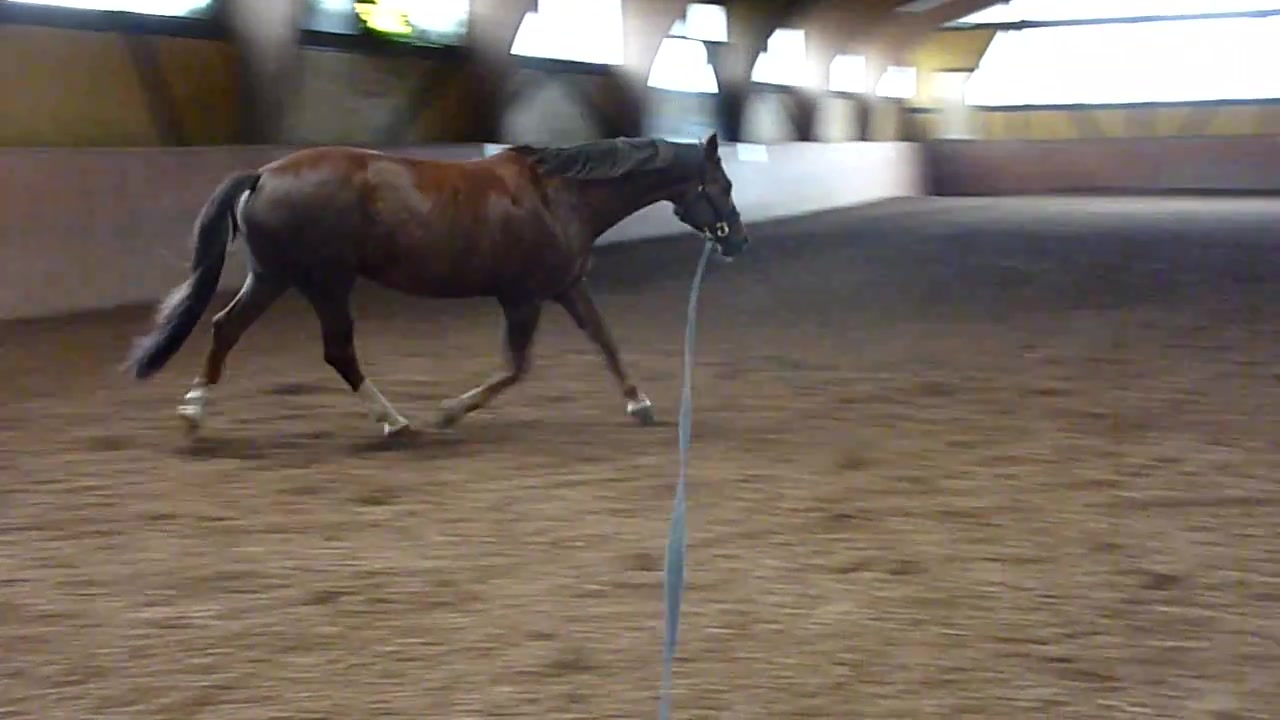horse: (118, 129, 751, 452)
